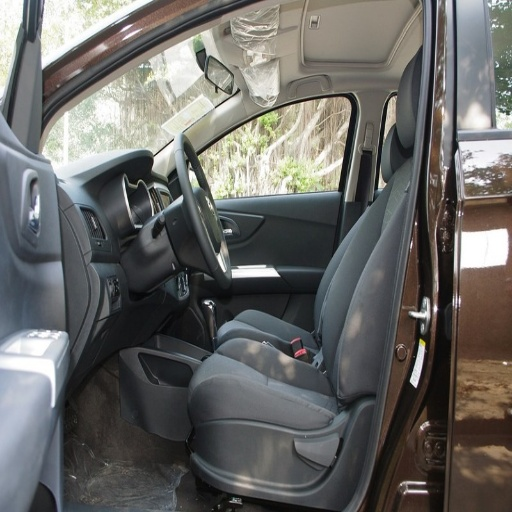back_bumper: (150, 373, 425, 502)
trunk: (295, 8, 406, 98), (216, 358, 339, 431)
